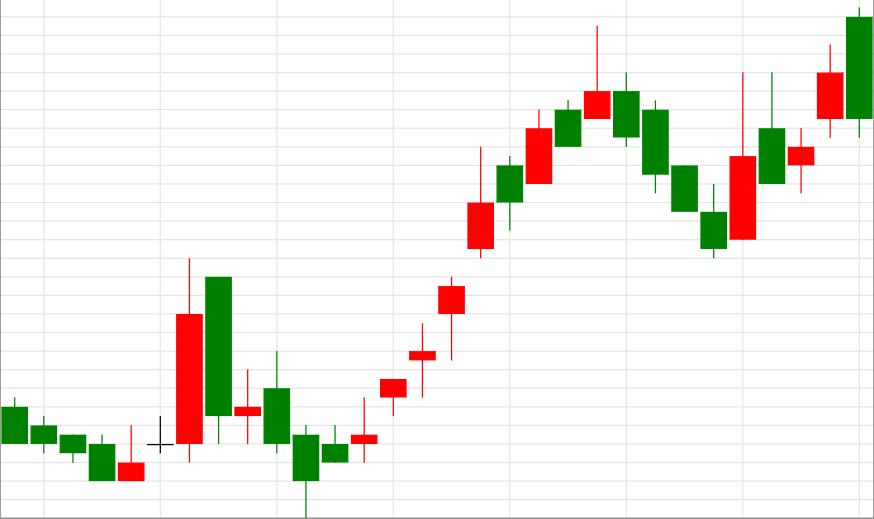shooting_star_fall: (352, 26, 610, 462)
